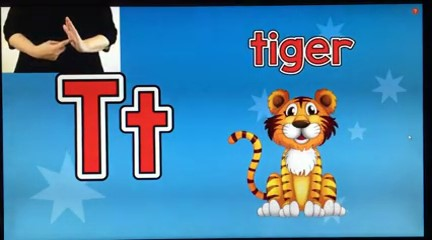T: (28, 12, 92, 67)
